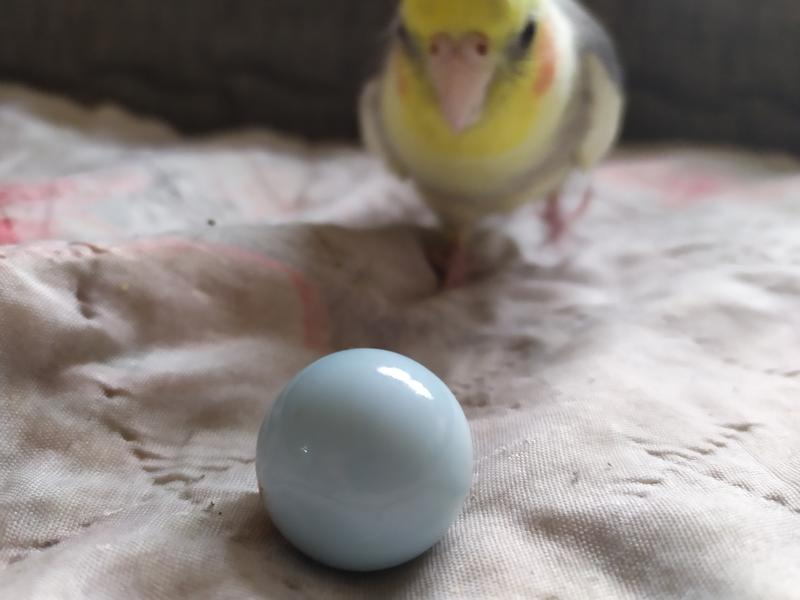Warning: (252, 343, 481, 576)
